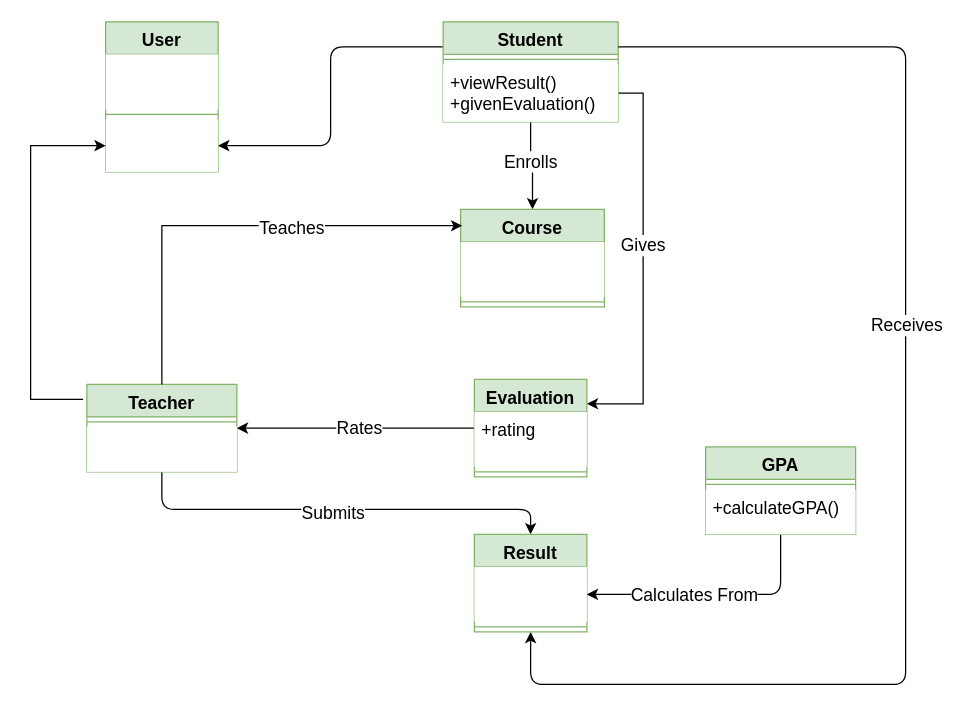
The diagram is 964 pixels wide and 716 high, and some of its shapes have lost their labels. The shapes that lost their labels are listed below. From the top down, each one's centre as x and y in pixels, then its label:
At (x=161, y=81): "+id +name".
At (x=161, y=145): "+login()".
At (x=532, y=268): "+course_id +course_name".
At (x=161, y=448): "+submitMarks()".
At (x=530, y=593): "+marks +grades".
